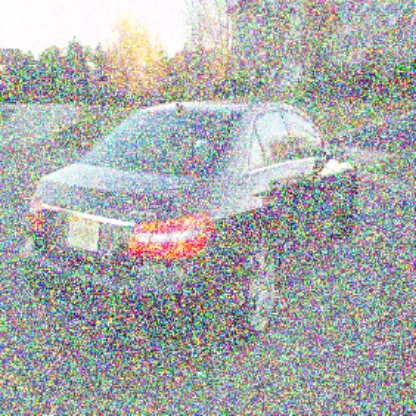Vehicle: (23, 103, 358, 350)
